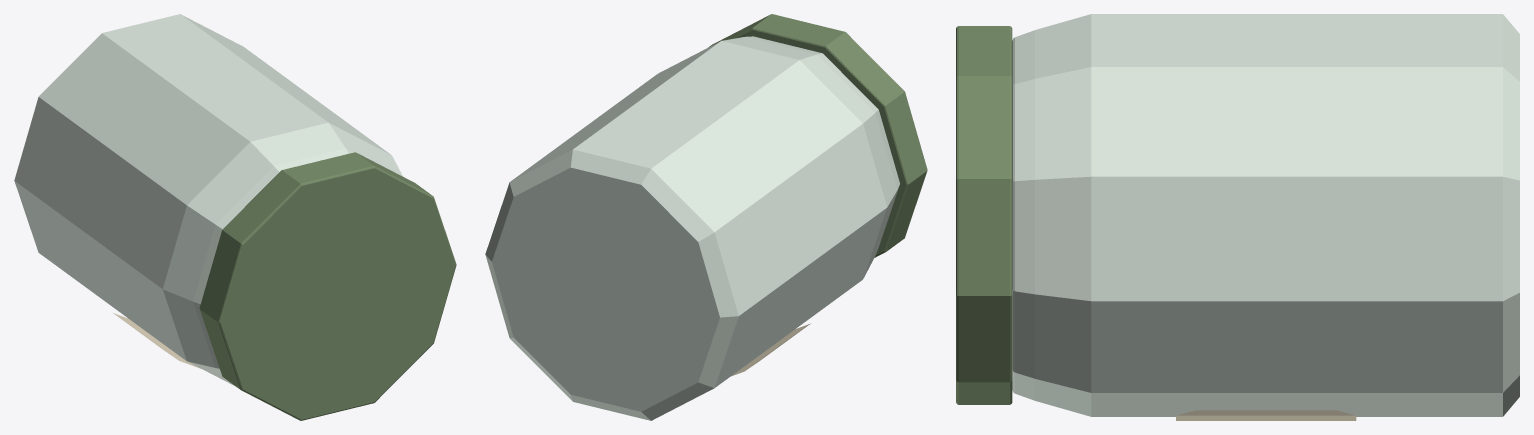
The model's file is tahini.glb.
3 views of the same model, side by side, from view 1: azimuth 30°, elevation 25°; view 2: azimuth 150°, elevation 25°; view 3: azimuth 270°, elevation 25° (orthographic). The views are drawn at different scales.
Parts seen in each view (by area): view 1: tahini; view 2: tahini; view 3: tahini.
Boxes of the visible parts, left/top/right/bottom form: tahini: left=14, top=14, right=456, bottom=420; tahini: left=485, top=14, right=927, bottom=420; tahini: left=956, top=14, right=1519, bottom=420.
Bounding box in the file's own units: 0.072 × 0.0721 × 0.1.
